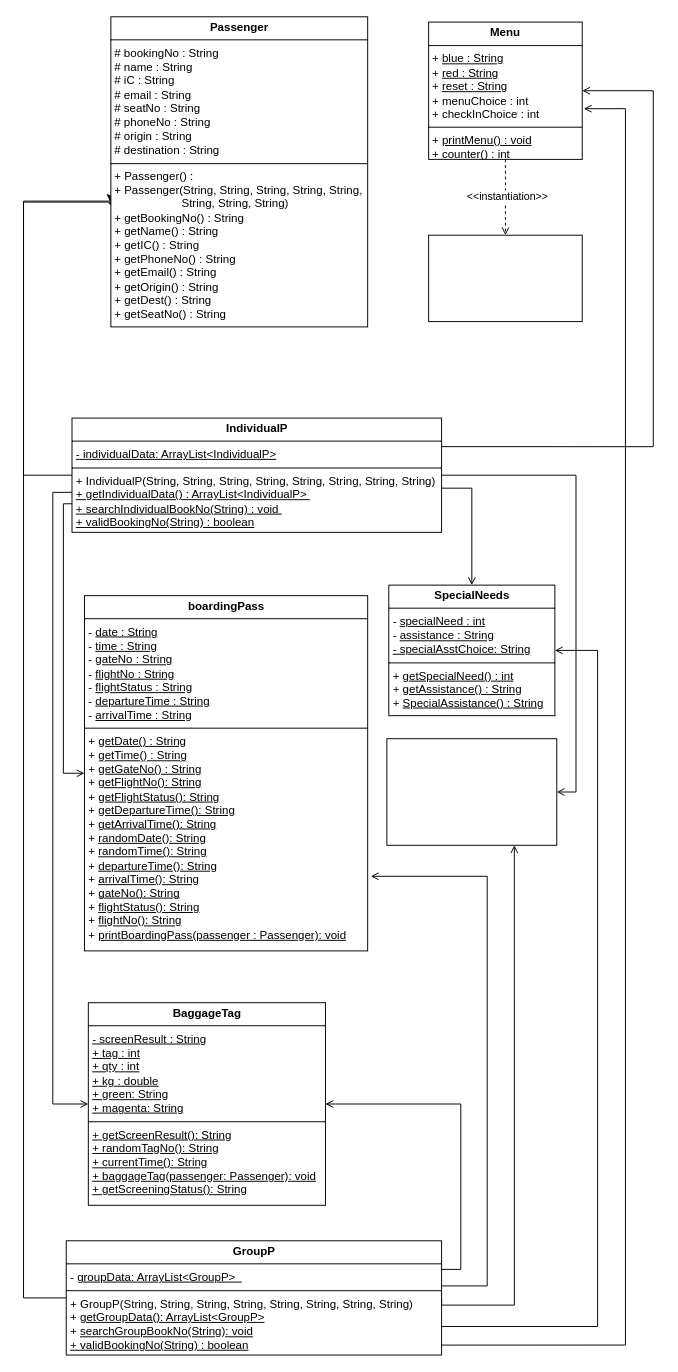
This 678x1372 diagram has some shape labels left out. The shapes that lost their labels are listed below. From the top down, each one's centre as x and y in pixels, then its label:
At point (505, 278): "menu : AeroCheck + main(String[ ] args) : void".
At point (471, 791): "Email + send BoardingPass(passenger : Passenger): void".
